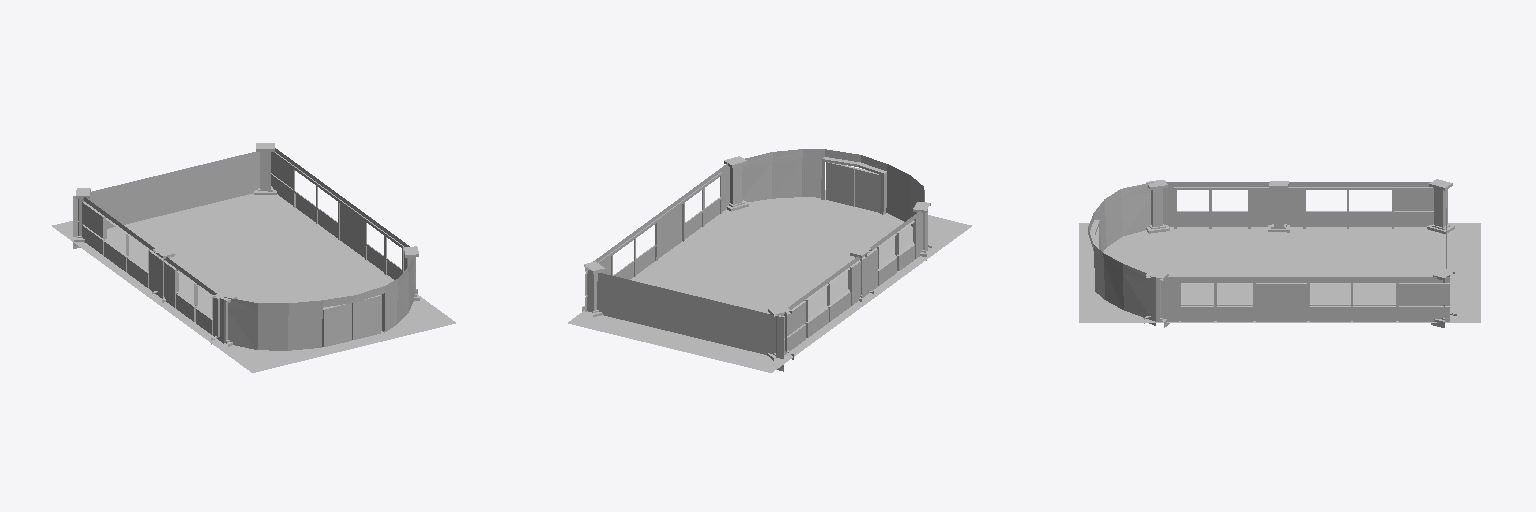
The model's file is studio.obj.
3 views of the same model, side by side, from view 1: azimuth 30°, elevation 25°; view 2: azimuth 150°, elevation 25°; view 3: azimuth 270°, elevation 25° (orthographic).
Visible parts, largest first — view 1: polySurface1; view 2: polySurface1; view 3: polySurface1.
Part boxes in pixels (left/top/right/bottom): polySurface1: left=52, top=143, right=455, bottom=372; polySurface1: left=568, top=149, right=971, bottom=372; polySurface1: left=1079, top=179, right=1480, bottom=327.
Size of the model in its own units: 174 by 48.34 by 291.